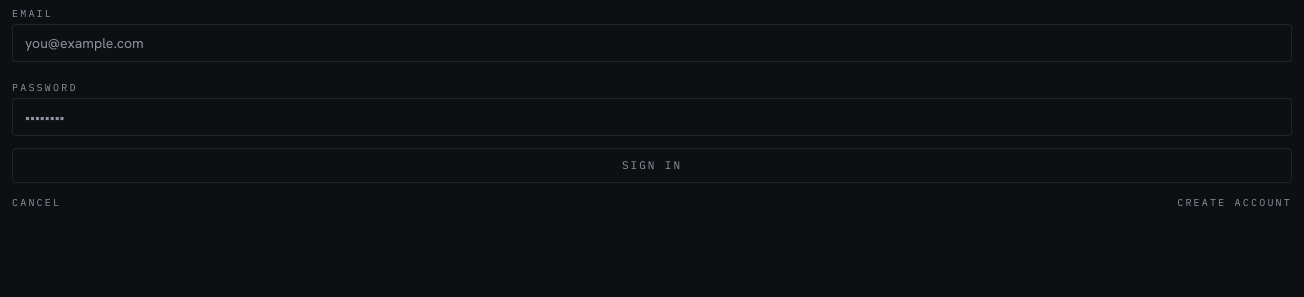
Scenario: EmailAuthForm › mode switching › clears error when switching mode
// Submit to trigger error — fill required fields first
Step 1. Type "test@example.com" into the field labelled "Email" → (652, 43), box [12,24,1292,62]
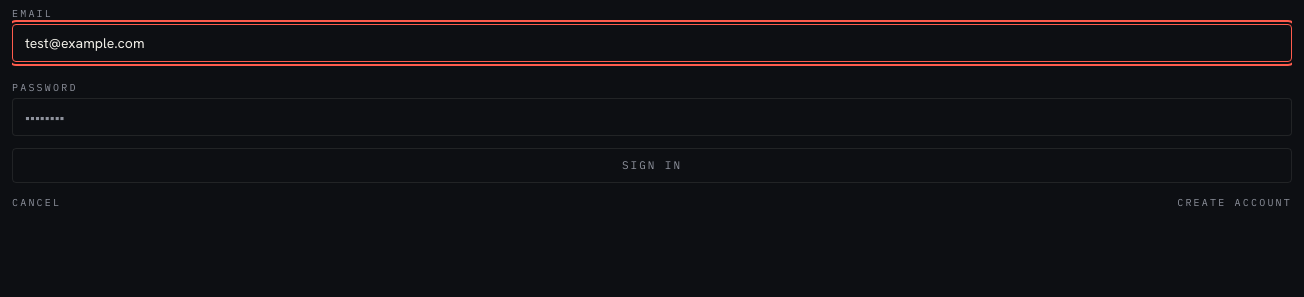
Step 2. Type "password123" into the password field labelled "Password" → (652, 117), box [12,98,1292,136]
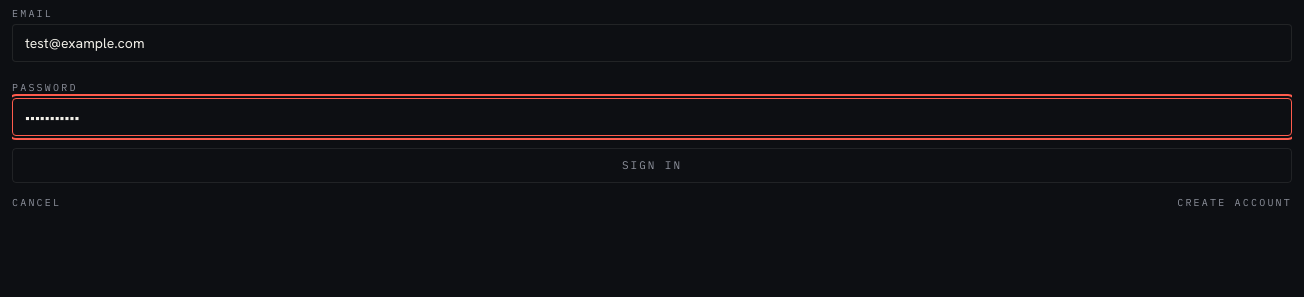
Step 3. Click the button "Sign in" → click(652, 165), box [12,148,1292,182]
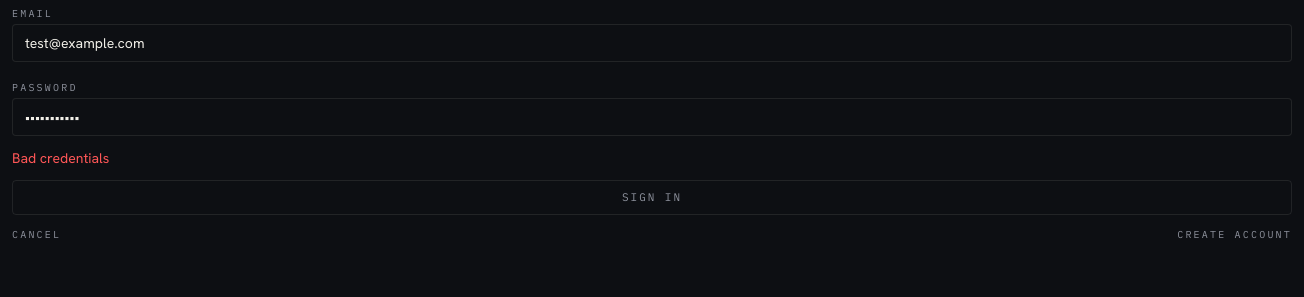
Now the text "Bad credentials" is shown, box [12,149,109,167]
// Switch to sign-up — error should disappear
Step 4. Click the button "Create account" → click(1235, 234), box [1177,226,1292,242]
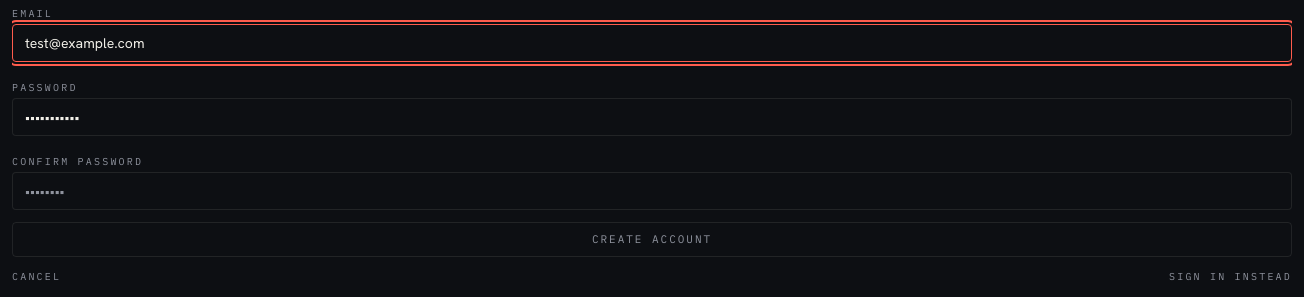
Now the text "Bad credentials" is gone
